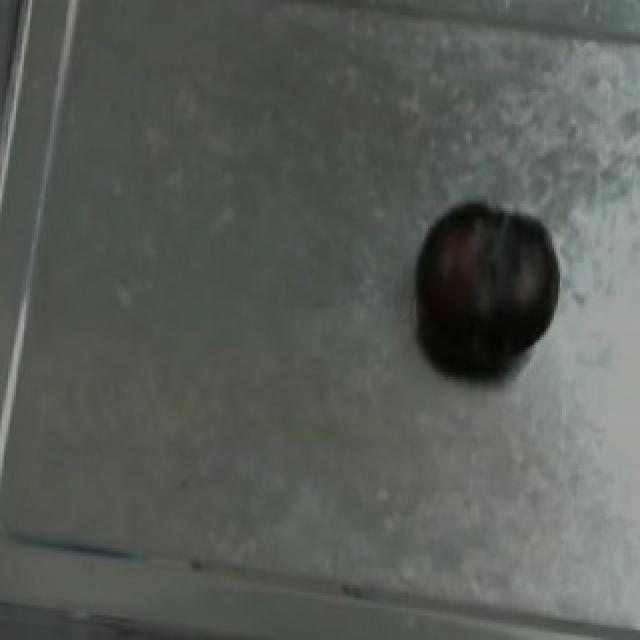Fruit: (398, 189, 578, 387)
